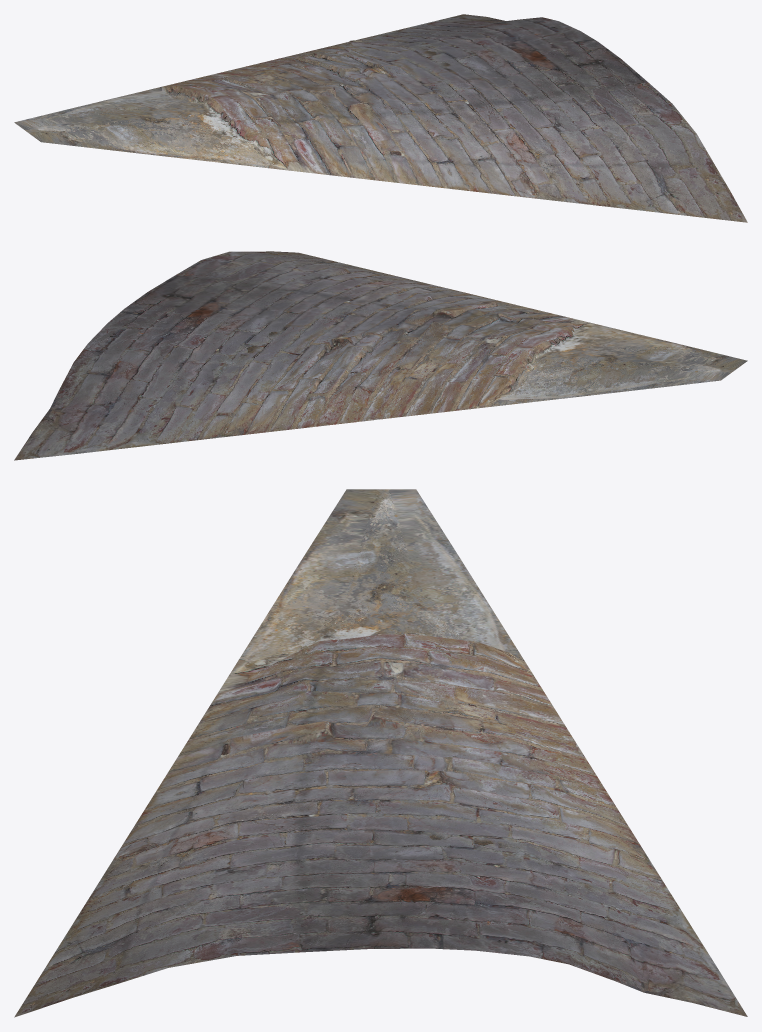
File: sm_CryptCeiling_02_02.fbx
3 renders of one model, top to bottom at view 1: azimuth 30°, elevation 25°; view 2: azimuth 150°, elevation 25°; view 3: azimuth 270°, elevation 25°, orthographic. The views are drawn at different scales.
Parts seen in each view (by area): view 1: sm_CryptCeiling_02_02_LOD0; view 2: sm_CryptCeiling_02_02_LOD0; view 3: sm_CryptCeiling_02_02_LOD0.
Boxes of the visible parts, x1=… form: sm_CryptCeiling_02_02_LOD0: x1=14, y1=14, x2=747, y2=222; sm_CryptCeiling_02_02_LOD0: x1=14, y1=251, x2=747, y2=460; sm_CryptCeiling_02_02_LOD0: x1=14, y1=489, x2=747, y2=1017.
Size of the model in its own units: 300 by 251 by 61.86.
